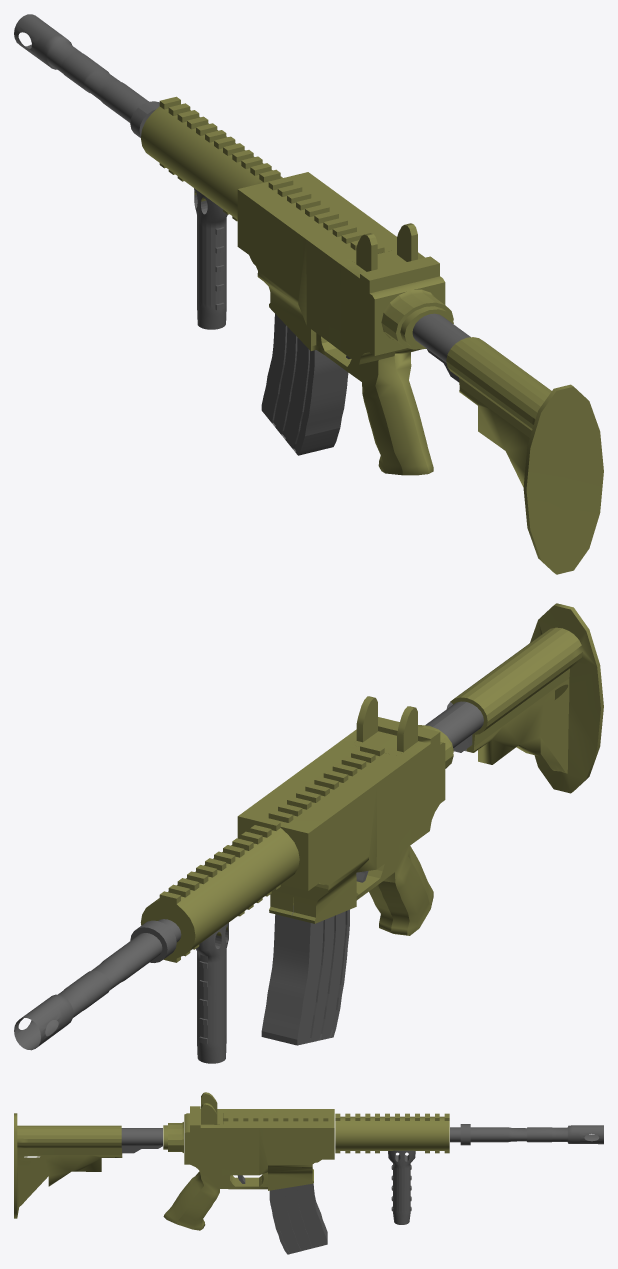
Rendered from machine-gun.fbx.
3 renders of one model, top to bottom at view 1: azimuth 30°, elevation 25°; view 2: azimuth 150°, elevation 25°; view 3: azimuth 270°, elevation 25°, orthographic. The views are drawn at different scales.
Parts seen in each view (by area): view 1: pCube14; view 2: pCube14; view 3: pCube14.
Part boxes in pixels (x1,y1,x2,y2): pCube14: (14,14,603,574); pCube14: (14,603,603,1063); pCube14: (14,1092,603,1254).
Bounding box in the file's own units: 46.73 × 159 × 562.
